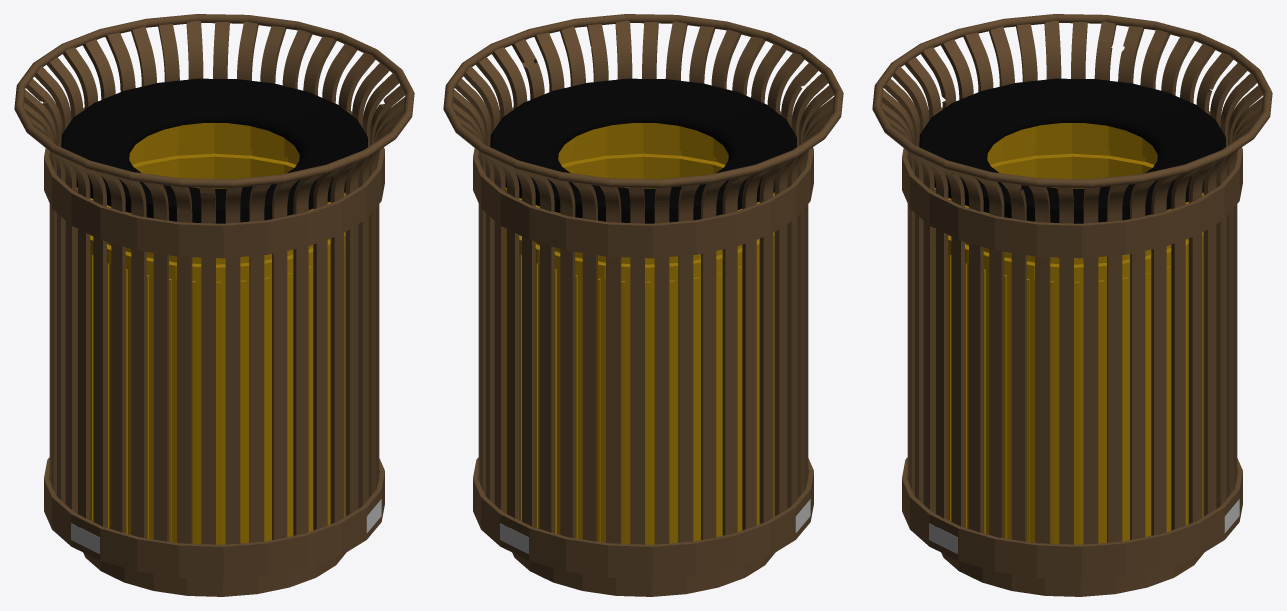
The picture shows the model from 3 angles, left to right: view 1: azimuth 30°, elevation 25°; view 2: azimuth 150°, elevation 25°; view 3: azimuth 270°, elevation 25°; orthographic projection.
Parts seen in each view (by area): view 1: mesh81_mesh81-geometry, mesh1_mesh1-geometry, mesh142_mesh142-geometry, mesh104_mesh104-geometry, mesh109_mesh109-geometry, mesh184_mesh184-geometry, mesh190_mesh190-geometry, mesh180_mesh180-geometry, mesh147_mesh147-geometry, mesh182_mesh182-geometry, mesh166_mesh166-geometry, mesh192_mesh192-geometry (+47 smaller); view 2: mesh81_mesh81-geometry, mesh1_mesh1-geometry, mesh142_mesh142-geometry, mesh104_mesh104-geometry, mesh109_mesh109-geometry, mesh136_mesh136-geometry, mesh196_mesh196-geometry, mesh194_mesh194-geometry, mesh118_mesh118-geometry, mesh134_mesh134-geometry, mesh140_mesh140-geometry, mesh198_mesh198-geometry (+47 smaller); view 3: mesh81_mesh81-geometry, mesh1_mesh1-geometry, mesh142_mesh142-geometry, mesh104_mesh104-geometry, mesh109_mesh109-geometry, mesh110_mesh110-geometry, mesh188_mesh188-geometry, mesh168_mesh168-geometry, mesh200_mesh200-geometry, mesh186_mesh186-geometry, mesh176_mesh176-geometry, mesh138_mesh138-geometry (+47 smaller).
Part boxes in pixels (bbox=[...]): mesh81_mesh81-geometry: bbox=[76, 123, 345, 544]; mesh1_mesh1-geometry: bbox=[61, 78, 367, 223]; mesh142_mesh142-geometry: bbox=[44, 107, 384, 258]; mesh104_mesh104-geometry: bbox=[44, 457, 384, 579]; mesh109_mesh109-geometry: bbox=[14, 14, 414, 188]; mesh184_mesh184-geometry: bbox=[143, 182, 168, 541]; mesh190_mesh190-geometry: bbox=[249, 184, 270, 542]; mesh180_mesh180-geometry: bbox=[293, 174, 322, 535]; mesh147_mesh147-geometry: bbox=[117, 177, 146, 538]; mesh182_mesh182-geometry: bbox=[171, 186, 192, 543]; mesh166_mesh166-geometry: bbox=[272, 180, 297, 539]; mesh192_mesh192-geometry: bbox=[225, 187, 242, 544]; mesh81_mesh81-geometry: bbox=[505, 123, 774, 544]; mesh1_mesh1-geometry: bbox=[490, 78, 796, 223]; mesh142_mesh142-geometry: bbox=[473, 107, 813, 258]; mesh104_mesh104-geometry: bbox=[473, 457, 813, 579]; mesh109_mesh109-geometry: bbox=[443, 14, 843, 188]; mesh136_mesh136-geometry: bbox=[572, 182, 597, 541]; mesh196_mesh196-geometry: bbox=[678, 184, 699, 542]; mesh194_mesh194-geometry: bbox=[701, 180, 726, 539]; mesh118_mesh118-geometry: bbox=[722, 174, 751, 535]; mesh134_mesh134-geometry: bbox=[600, 186, 621, 543]; mesh140_mesh140-geometry: bbox=[546, 177, 575, 538]; mesh198_mesh198-geometry: bbox=[654, 187, 671, 544]; mesh81_mesh81-geometry: bbox=[934, 123, 1203, 544]; mesh1_mesh1-geometry: bbox=[919, 78, 1225, 223]; mesh142_mesh142-geometry: bbox=[902, 107, 1242, 258]; mesh104_mesh104-geometry: bbox=[902, 457, 1242, 579]; mesh109_mesh109-geometry: bbox=[872, 14, 1272, 188]; mesh110_mesh110-geometry: bbox=[1001, 182, 1026, 541]; mesh188_mesh188-geometry: bbox=[1107, 184, 1128, 542]; mesh168_mesh168-geometry: bbox=[1151, 174, 1180, 535]; mesh200_mesh200-geometry: bbox=[1130, 180, 1155, 539]; mesh186_mesh186-geometry: bbox=[975, 177, 1004, 538]; mesh176_mesh176-geometry: bbox=[1028, 186, 1050, 543]; mesh138_mesh138-geometry: bbox=[1083, 187, 1100, 544].
Size of the model in its own units: 0.5353 by 0.6534 by 0.5353.
